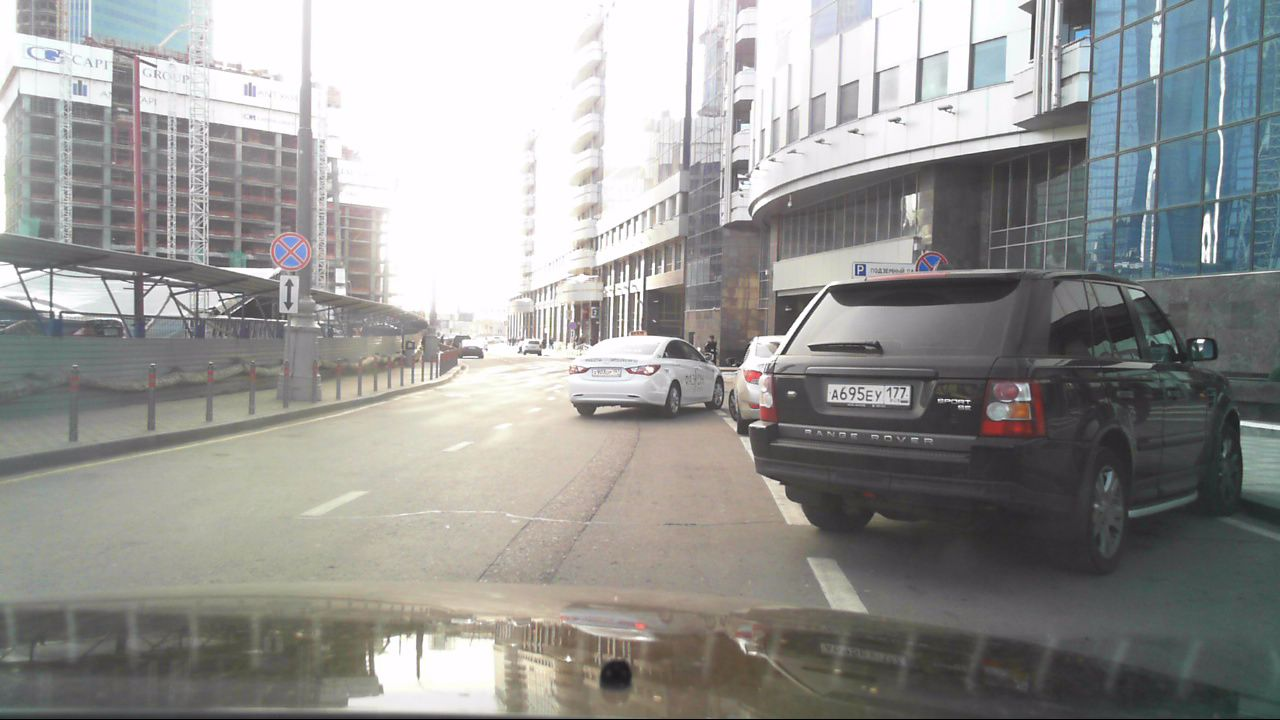No Parking: (914, 249, 949, 279)
